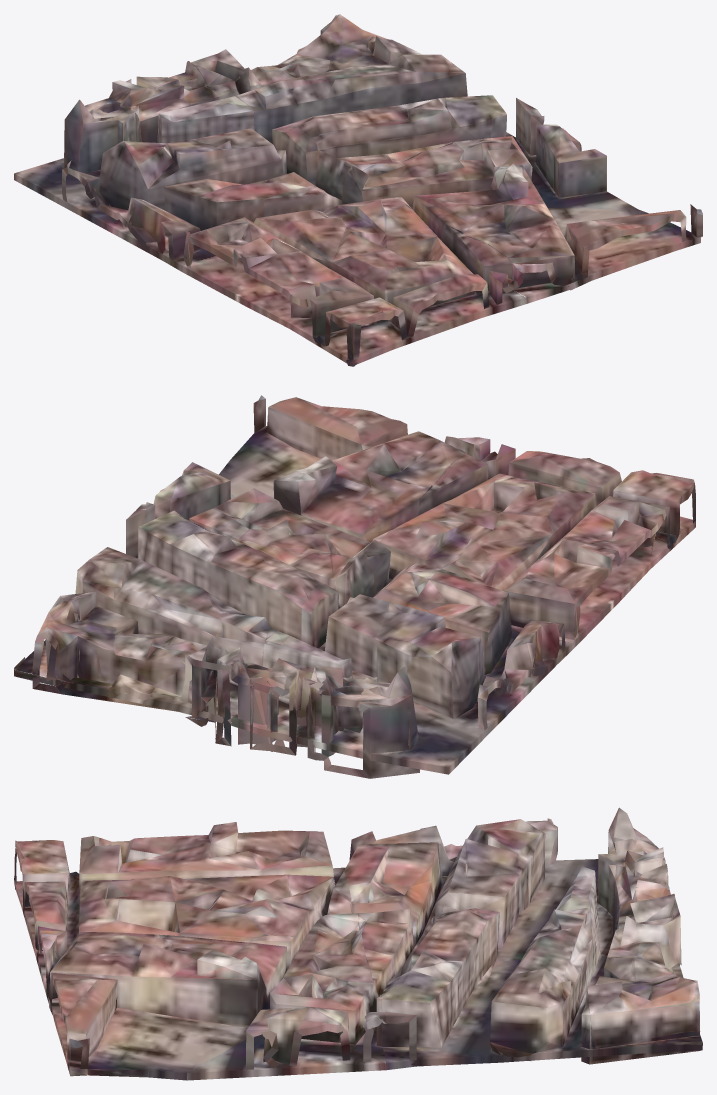
3 renders of one model, top to bottom at view 1: azimuth 30°, elevation 25°; view 2: azimuth 150°, elevation 25°; view 3: azimuth 270°, elevation 25°, orthographic. The views are drawn at different scales.
Parts seen in each view (by area): view 1: Mesh_0; view 2: Mesh_0; view 3: Mesh_0.
Boxes of the visible parts, left/top/right/bottom form: Mesh_0: left=14, top=14, right=702, bottom=366; Mesh_0: left=14, top=395, right=695, bottom=778; Mesh_0: left=14, top=807, right=702, bottom=1080.
Size of the model in its own units: 267 by 55.81 by 330.
1 material, 1 textured.
